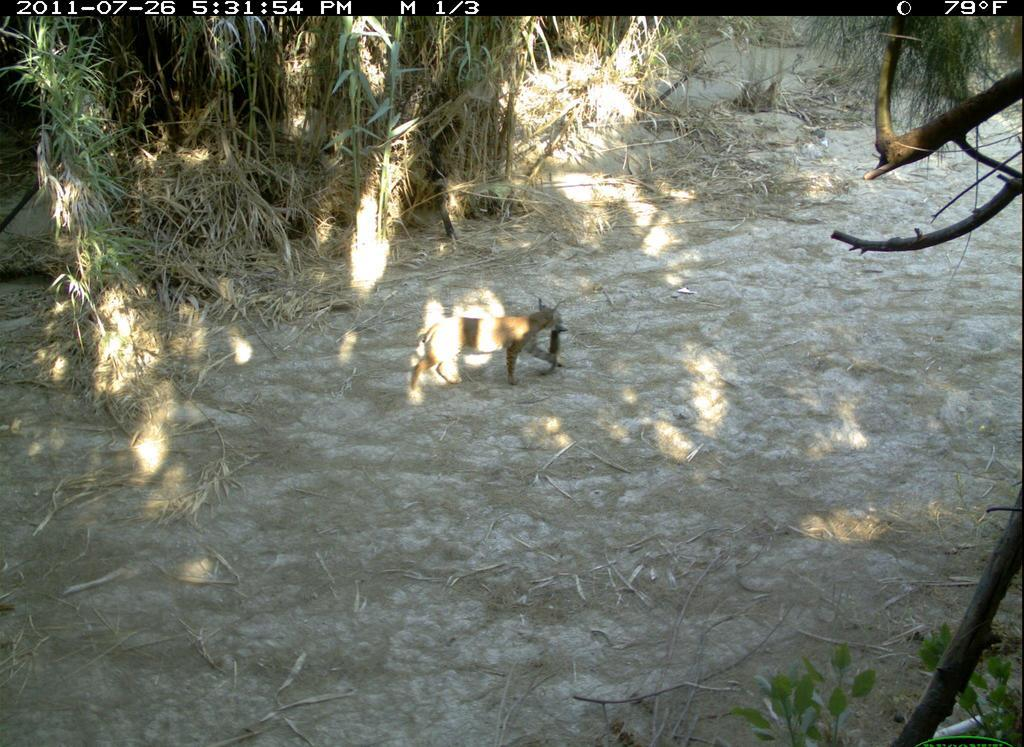bobcat: (402, 290, 571, 408)
